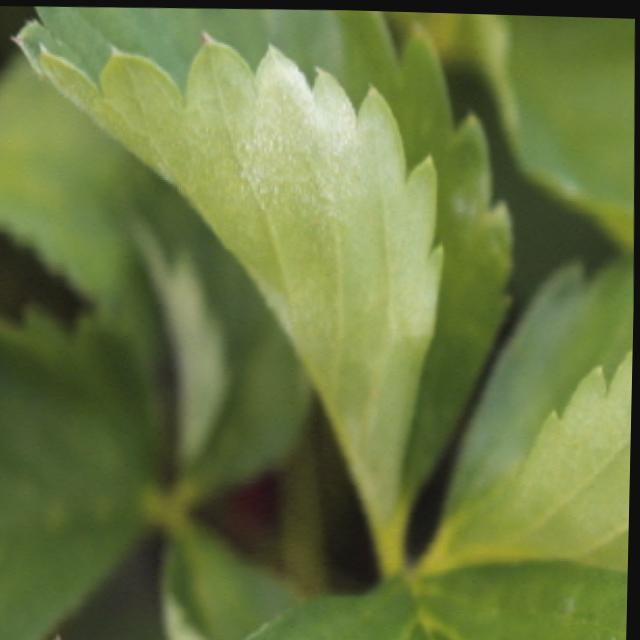Powdery Mildew Leaf: (13, 6, 523, 561)
